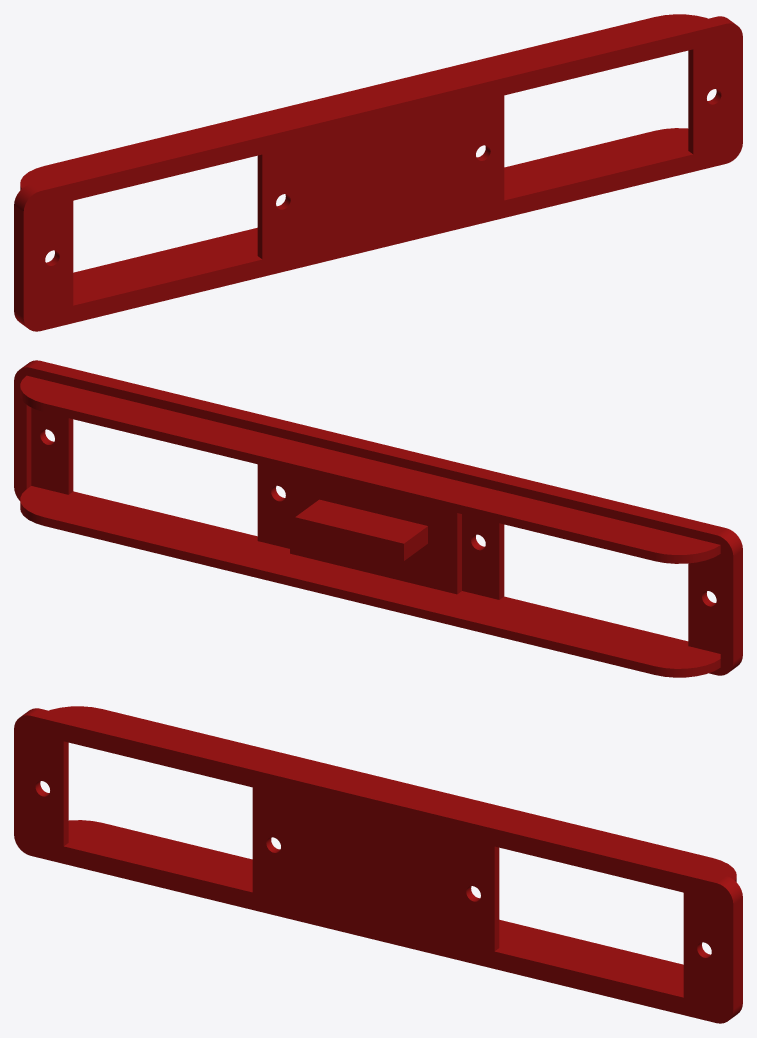
File: MechaFerris-FemurBracket.gltf
3 renders of one model, top to bottom at view 1: azimuth 30°, elevation 25°; view 2: azimuth 150°, elevation 25°; view 3: azimuth 330°, elevation 25°, orthographic.
Parts seen in each view (by area): view 1: Body014; view 2: Body014; view 3: Body014.
Boxes of the visible parts, x1,y1,x2,y2 form: Body014: (14,14,742,331); Body014: (14,360,742,677); Body014: (14,706,742,1023).
Size of the model in its own units: 0.086 by 0.016 by 0.007.
